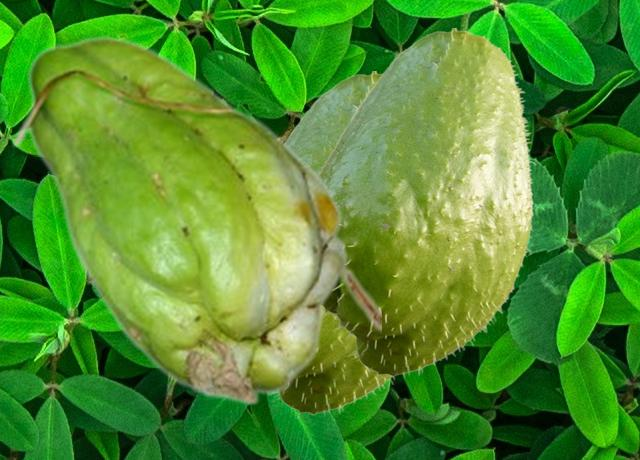sayote: (10, 35, 380, 405), (318, 28, 535, 380), (273, 71, 397, 418)
